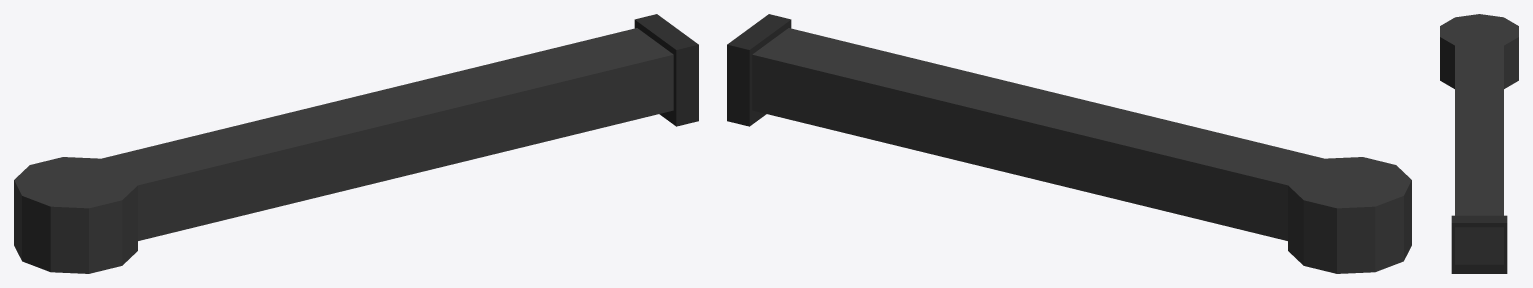
File: SMG4_04_3.fbx
3 renders of one model, left to right at view 1: azimuth 30°, elevation 25°; view 2: azimuth 150°, elevation 25°; view 3: azimuth 270°, elevation 25°, orthographic. The views are drawn at different scales.
Visible parts, largest first — view 1: SMG4_04_3; view 2: SMG4_04_3; view 3: SMG4_04_3.
Part boxes in pixels (x1=…): SMG4_04_3: x1=14, y1=14, x2=698, y2=273; SMG4_04_3: x1=727, y1=14, x2=1411, y2=273; SMG4_04_3: x1=1440, y1=14, x2=1518, y2=273.
Size of the model in its own units: 0.3268 by 0.0365 by 0.0511.
